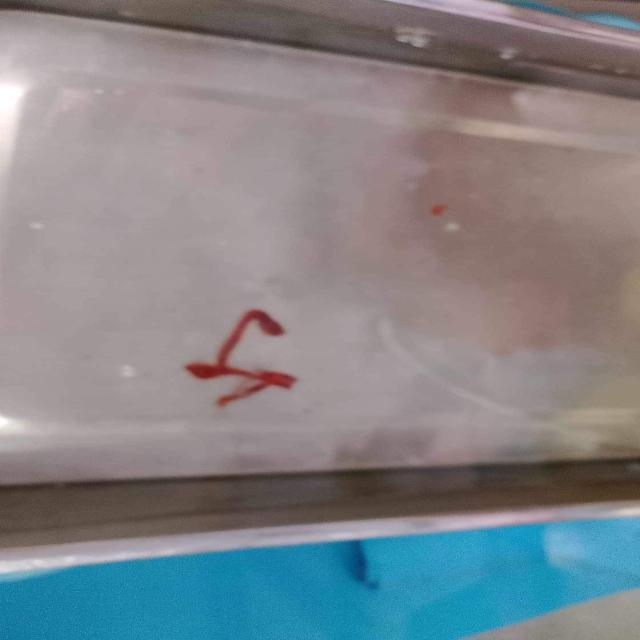General: (2, 511, 637, 638)
Pathological: (2, 6, 636, 490)
